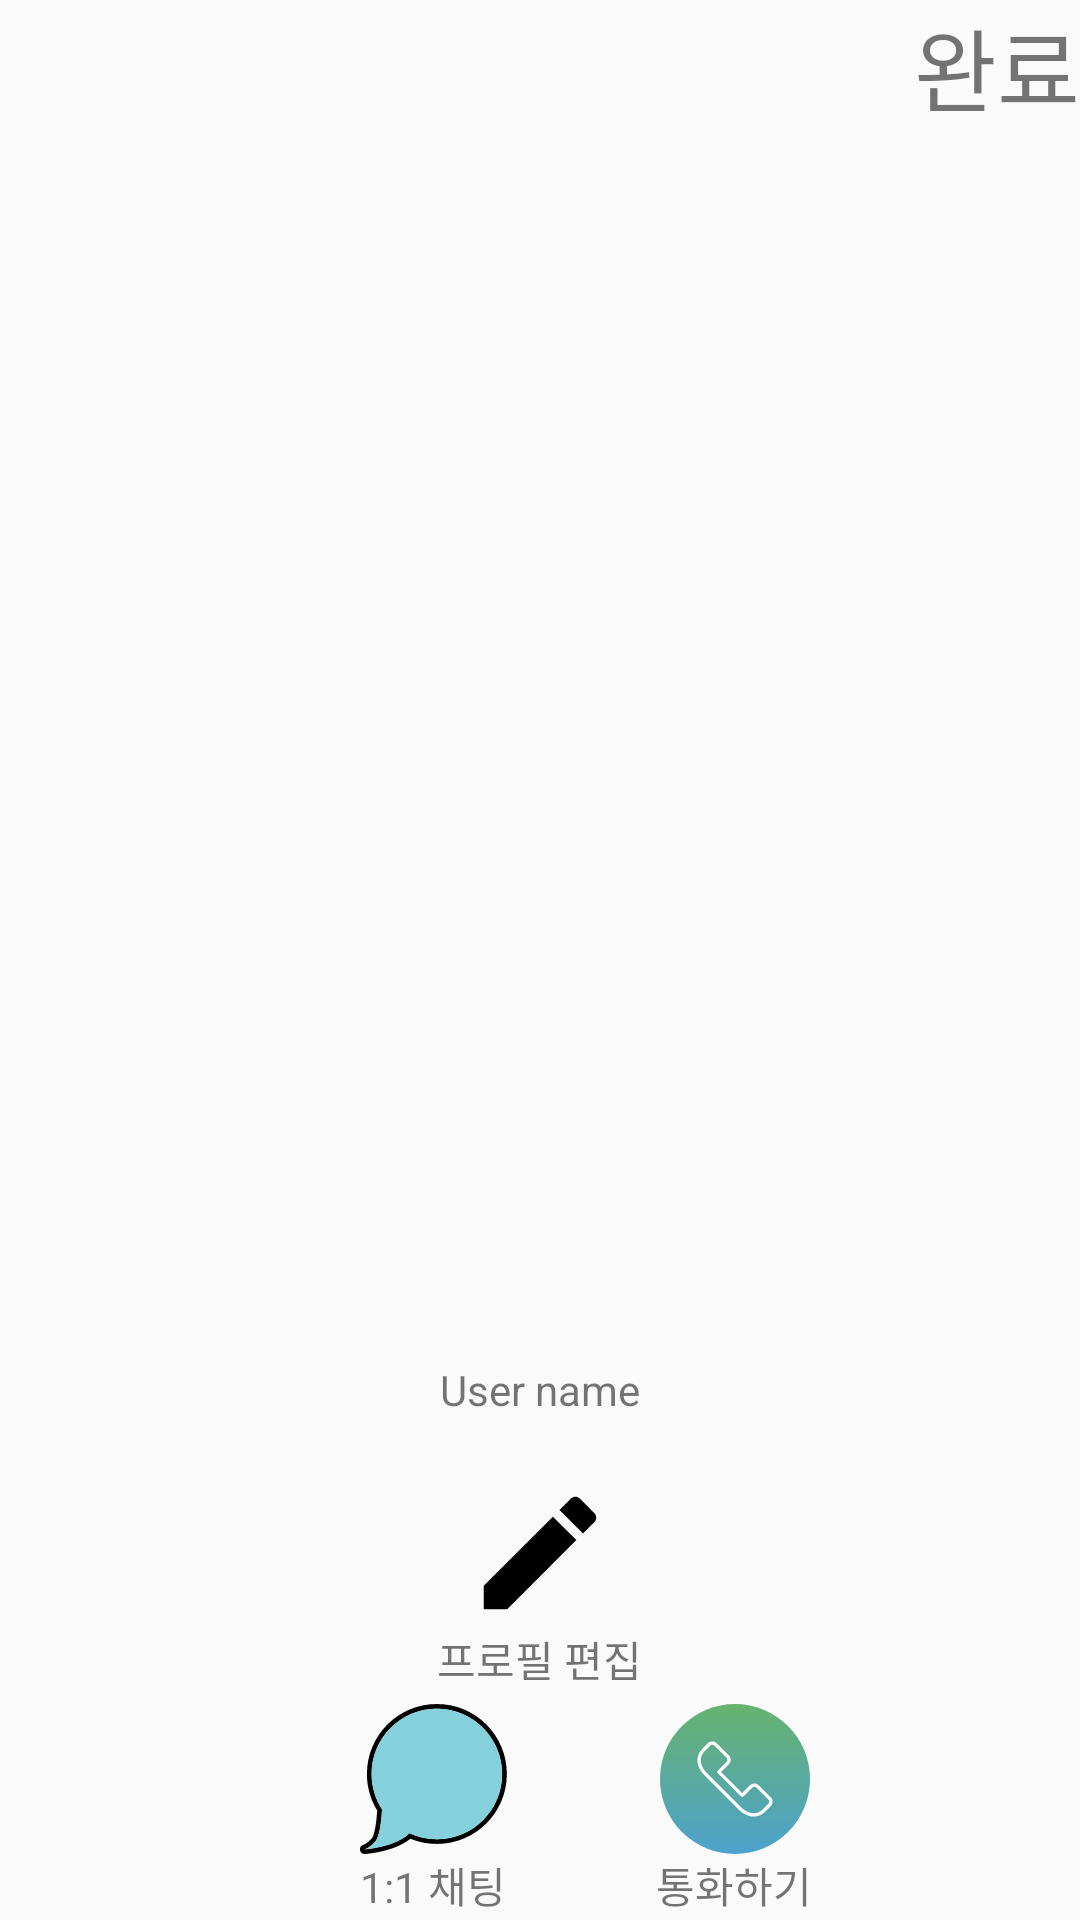

Locate icon controls on the screen. Image size 1080*1920, boxes as region(x1, y1, x2, y2).
speach bubble: region(360, 1704, 507, 1854)
